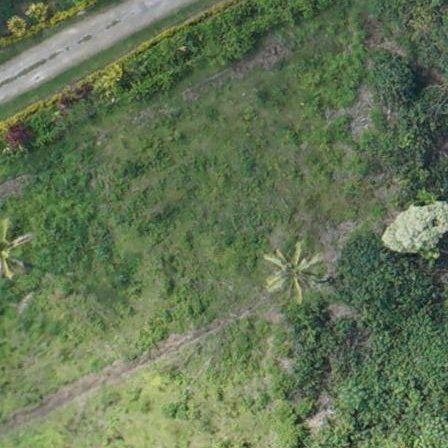palm_tree: (260, 232, 326, 302)
